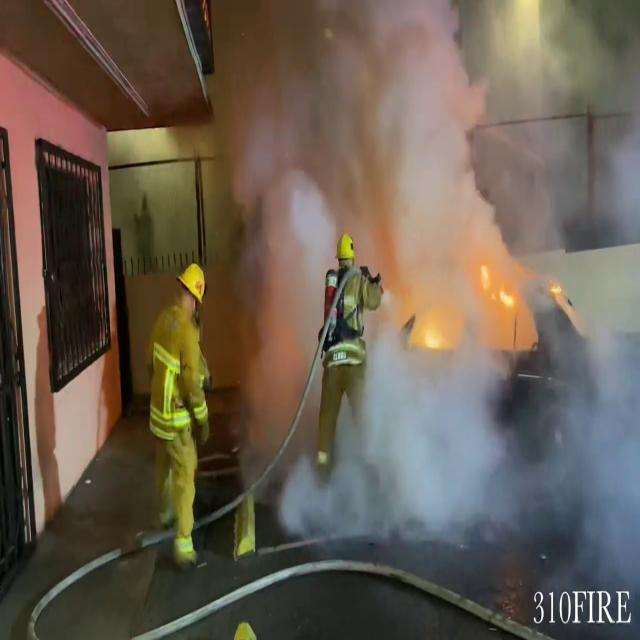Smoke: (194, 0, 639, 549)
